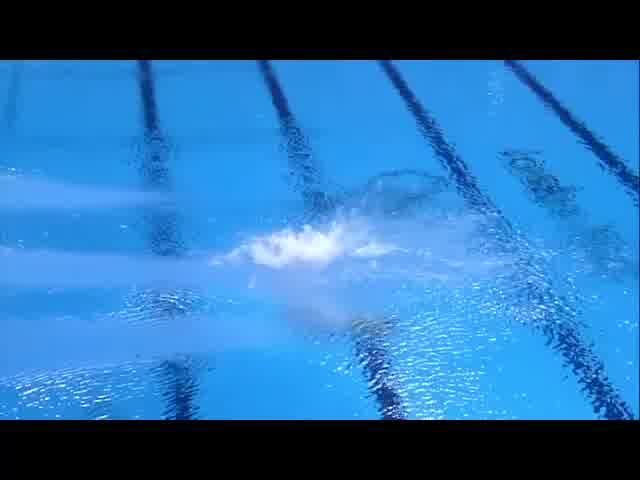core: (250, 216, 386, 274)
periphery: (205, 183, 498, 291)
